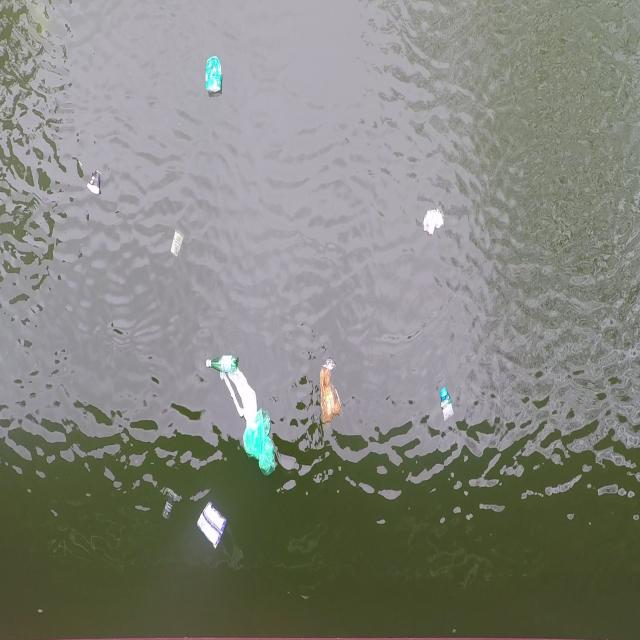Autre plastique: (192, 500, 230, 555)
Bouteille plastique: (200, 349, 244, 377)
Non plastique: (80, 165, 107, 202)
Sac plastique: (239, 414, 281, 483), (314, 352, 343, 432)
